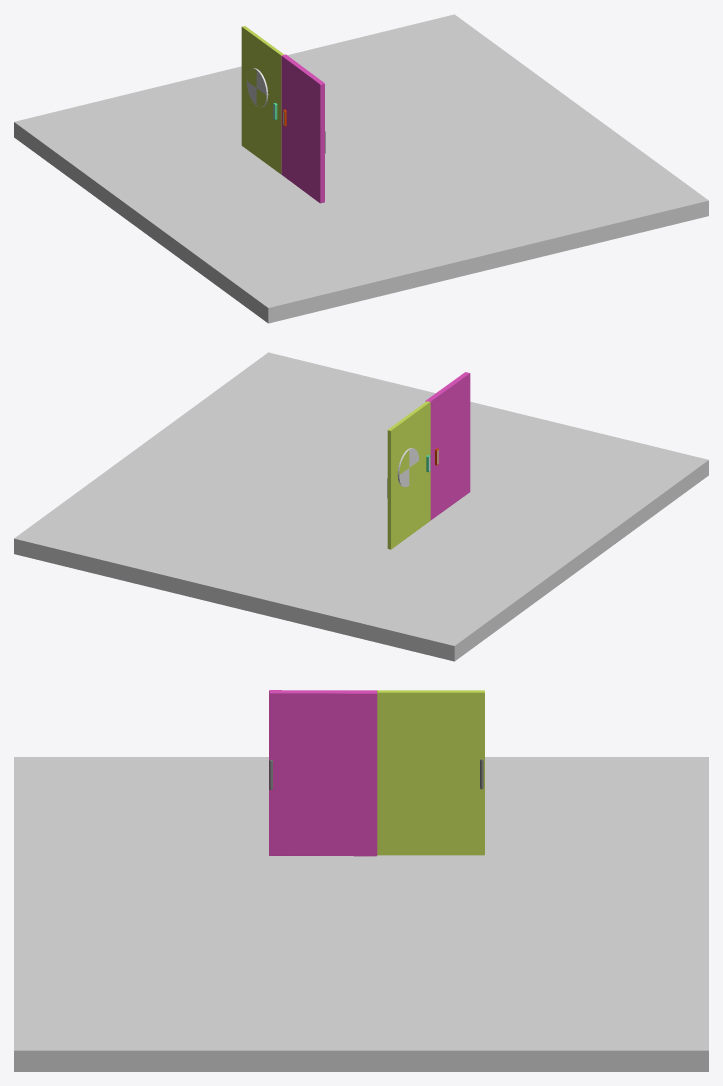
The model's file is door.fbx.
3 renders of one model, top to bottom at view 1: azimuth 30°, elevation 25°; view 2: azimuth 150°, elevation 25°; view 3: azimuth 270°, elevation 25°, orthographic. The views are drawn at different scales.
Parts seen in each view (by area): view 1: Cube, Cube.001, Cube.002; view 2: Cube, Cube.002, Cube.001; view 3: Cube, Cube.001, Cube.002.
Part boxes in pixels (<box>): Cube: <box>14,14,708,323</box>; Cube.001: <box>281,54,324,203</box>; Cube.002: <box>241,26,284,173</box>; Cube: <box>14,352,708,661</box>; Cube.002: <box>387,401,430,549</box>; Cube.001: <box>425,372,470,520</box>; Cube: <box>14,757,708,1071</box>; Cube.001: <box>269,690,377,856</box>; Cube.002: <box>377,690,484,855</box>.
Bounding box in the file's own units: 545 × 160 × 545.
